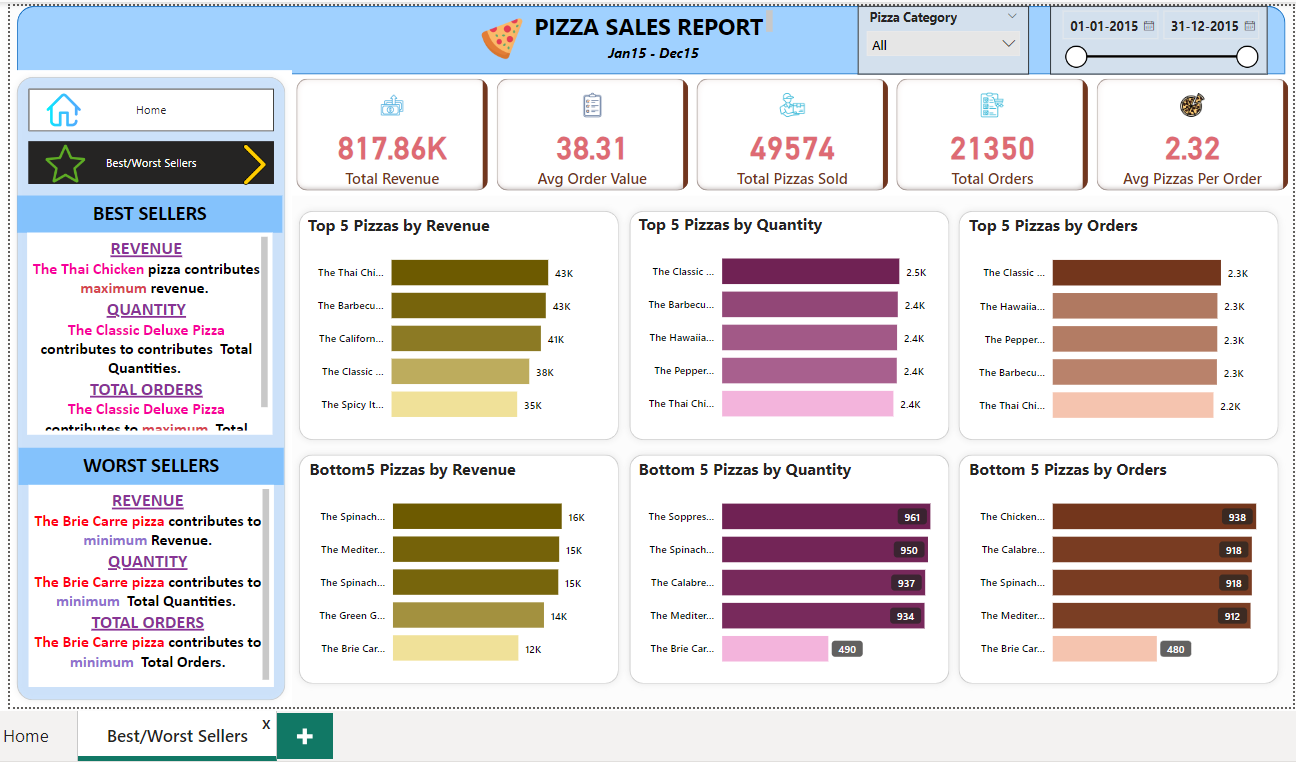

This screenshot's page, from the dashboard's own definition file:
{"tool":"powerbi","page":{"name":"Best/Worst Sellers","canvas":[1500,820],"ordinal":1},"visuals":[{"type":"cardVisual","fields":{"Data":["pizza_sales.Total Revenue","pizza_sales.Avg Order Value","pizza_sales.Total Pizzas Sold","pizza_sales.Total Orders","pizza_sales.Avg Pizzas Per Order"]},"box":[330,80,1170,141.7],"z":0},{"type":"shape","box":[8.3,0,1483.3,80],"z":1000},{"type":"textbox","box":[605,0,291.7,40],"z":2000},{"type":"textbox","box":[688.3,38.3,128.3,33.3],"z":3000},{"type":"image","box":[544.3,8.6,61.4,60],"z":4000},{"type":"shape","box":[0,75,330,745],"z":5000},{"type":"shape","box":[330,516,390,284],"z":6000},{"type":"shape","box":[716,516,390,284],"z":7000},{"type":"textbox","box":[8.3,221.7,310,43.3],"z":8000},{"type":"shape","box":[1102,516,390,284],"z":9000},{"type":"textbox","box":[20,265,286.7,236.7],"z":10000},{"type":"textbox","box":[10,516.7,310,43.3],"z":11000},{"type":"textbox","box":[21.7,560,286.7,236.7],"z":12000},{"type":"slicer","fields":{"Values":["pizza_sales.pizza_category"]},"box":[992,0,200,80],"z":13000},{"type":"slicer","fields":{"Values":["pizza_sales.order_date"]},"box":[1216,0,254,80],"z":14000},{"type":"shape","box":[330,232,390,284],"z":15000},{"type":"shape","box":[716,232,390,284],"z":16000},{"type":"shape","box":[1102,232,390,284],"z":17000},{"type":"barChart","title":"Top 5 Pizzas by Revenue","fields":{"Y":["pizza_sales.Total Revenue"],"Category":["pizza_sales.pizza_name"]},"box":[343.3,243.3,361.1,258.9],"z":18000},{"type":"barChart","title":"Bottom5 Pizzas by Revenue","fields":{"Y":["pizza_sales.Total Revenue"],"Category":["pizza_sales.pizza_name"]},"box":[344.4,527.8,361.1,258.9],"z":19000},{"type":"barChart","title":"Top 5 Pizzas by Quantity","fields":{"Y":["pizza_sales.Total Pizzas Sold"],"Category":["pizza_sales.pizza_name"]},"box":[730,241.4,361.4,260],"z":20000},{"type":"barChart","title":"Bottom 5 Pizzas by Quantity","fields":{"Y":["pizza_sales.Total Pizzas Sold"],"Category":["pizza_sales.pizza_name"]},"box":[730,528.6,361.4,260],"z":21000},{"type":"barChart","title":"Top 5 Pizzas by Orders","fields":{"Category":["pizza_sales.pizza_name"],"Y":["pizza_sales.Total Orders"]},"box":[1117.1,242.9,361.4,260],"z":22000},{"type":"barChart","title":"Bottom 5 Pizzas by Orders","fields":{"Category":["pizza_sales.pizza_name"],"Y":["pizza_sales.Total Orders"]},"box":[1116.7,528.3,361.7,260],"z":23000},{"type":"pageNavigator","box":[22,158,288,50],"z":24000},{"type":"pageNavigator","box":[22,96,288,50],"z":25000},{"type":"image","box":[254,156,66,58],"z":26000},{"type":"image","box":[36,150,56,68],"z":27000},{"type":"image","box":[32,96,62,50],"z":28000}]}

Visuals, with their boxes on the page's 1500x820 design canvas (x1, y1, x2, y2). These are canvas units, not pixel positions in the 1296x762 screenshot, which may show the page scaled, cropped or inside an application window:
cardVisual - pizza_sales.Total Revenue x pizza_sales.Avg Order Value: [left=330, top=80, right=1500, bottom=222]
shape: [left=8, top=0, right=1492, bottom=80]
textbox: [left=605, top=0, right=897, bottom=40]
textbox: [left=688, top=38, right=817, bottom=72]
image: [left=544, top=9, right=606, bottom=69]
shape: [left=0, top=75, right=330, bottom=820]
shape: [left=330, top=516, right=720, bottom=800]
shape: [left=716, top=516, right=1106, bottom=800]
textbox: [left=8, top=222, right=318, bottom=265]
shape: [left=1102, top=516, right=1492, bottom=800]
textbox: [left=20, top=265, right=307, bottom=502]
textbox: [left=10, top=517, right=320, bottom=560]
textbox: [left=22, top=560, right=308, bottom=797]
slicer - pizza_sales.pizza_category: [left=992, top=0, right=1192, bottom=80]
slicer - pizza_sales.order_date: [left=1216, top=0, right=1470, bottom=80]
shape: [left=330, top=232, right=720, bottom=516]
shape: [left=716, top=232, right=1106, bottom=516]
shape: [left=1102, top=232, right=1492, bottom=516]
"Top 5 Pizzas by Revenue" barChart: [left=343, top=243, right=704, bottom=502]
"Bottom5 Pizzas by Revenue" barChart: [left=344, top=528, right=706, bottom=787]
"Top 5 Pizzas by Quantity" barChart: [left=730, top=241, right=1091, bottom=501]
"Bottom 5 Pizzas by Quantity" barChart: [left=730, top=529, right=1091, bottom=789]
"Top 5 Pizzas by Orders" barChart: [left=1117, top=243, right=1478, bottom=503]
"Bottom 5 Pizzas by Orders" barChart: [left=1117, top=528, right=1478, bottom=788]
pageNavigator: [left=22, top=158, right=310, bottom=208]
pageNavigator: [left=22, top=96, right=310, bottom=146]
image: [left=254, top=156, right=320, bottom=214]
image: [left=36, top=150, right=92, bottom=218]
image: [left=32, top=96, right=94, bottom=146]
